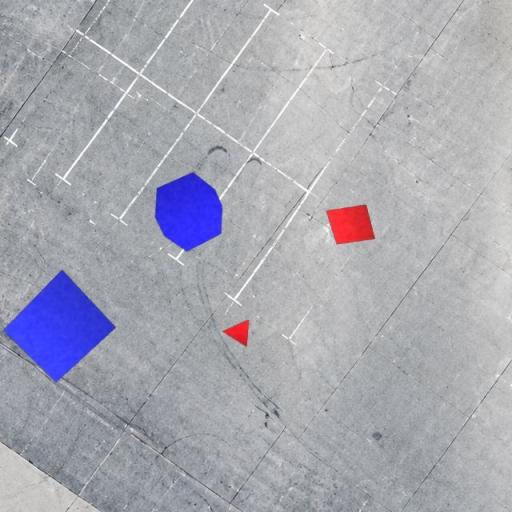BLUE_SQUARE: (2, 269, 117, 383)
RED_SQUARE: (326, 204, 376, 245)
